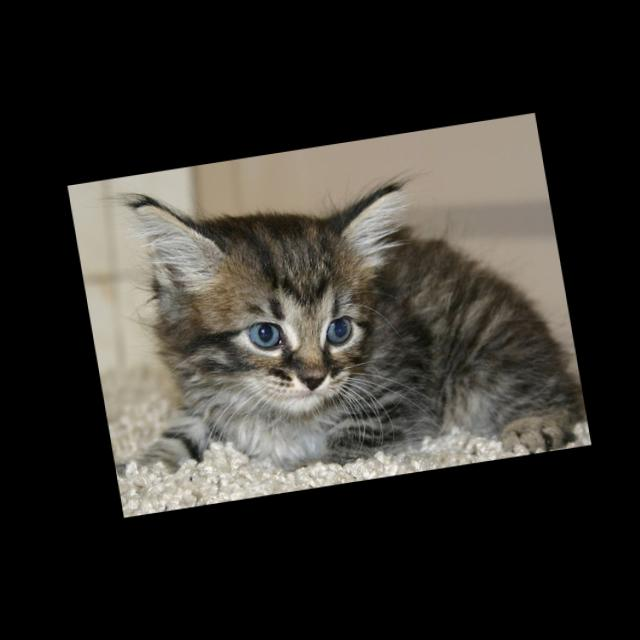animals: (131, 165, 427, 412)
